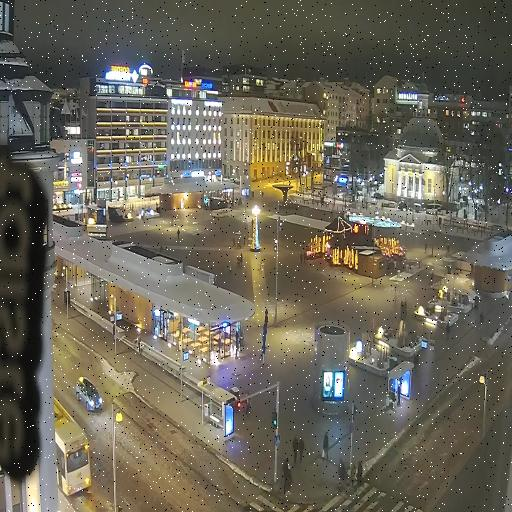Bus: (54, 397, 91, 495)
